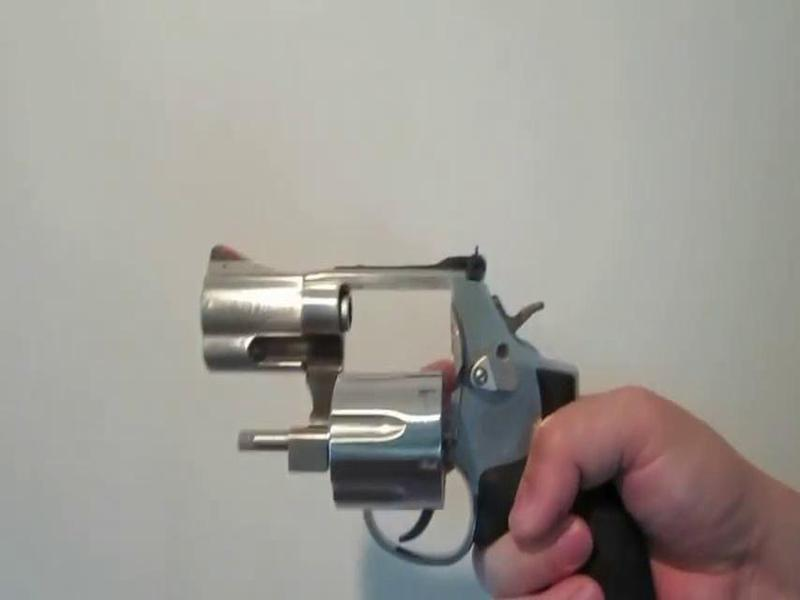Revolver: (150, 229, 663, 600)
